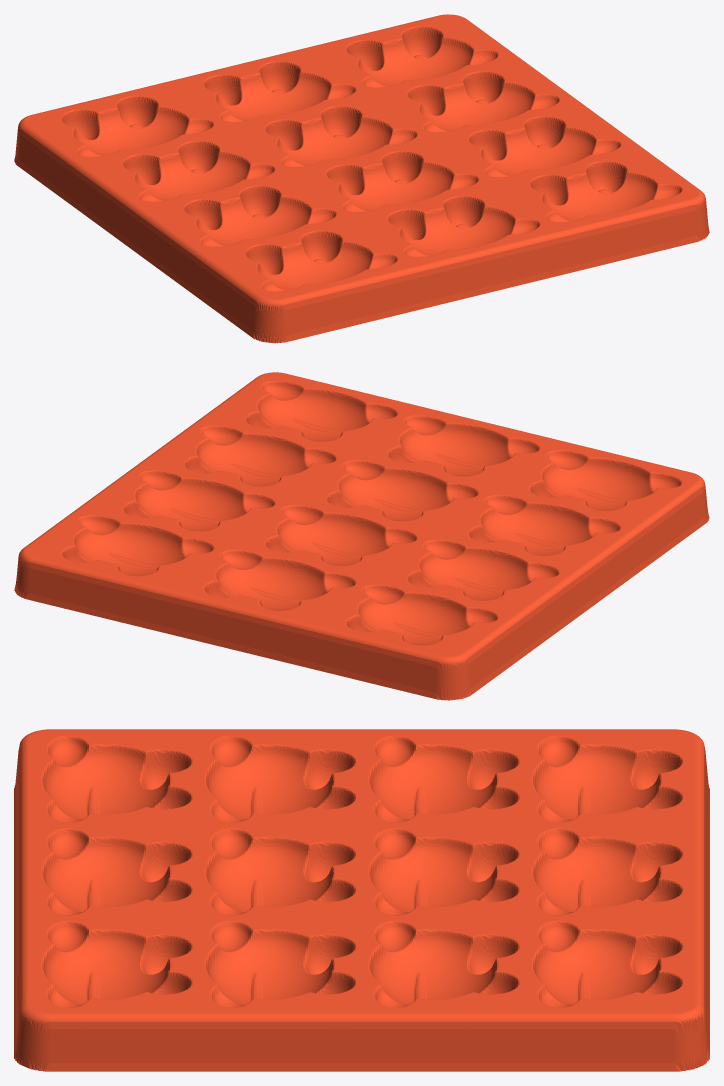
File: mold.glb
The picture shows the model from 3 angles, top to bottom: view 1: azimuth 30°, elevation 25°; view 2: azimuth 150°, elevation 25°; view 3: azimuth 270°, elevation 25°; orthographic projection. The views are drawn at different scales.
Visible parts, largest first — view 1: geometry_0; view 2: geometry_0; view 3: geometry_0.
Boxes of the visible parts, box(x1,y1,x2,y2) form: geometry_0: box(14, 14, 709, 343); geometry_0: box(14, 372, 709, 700); geometry_0: box(14, 729, 709, 1071).
Bounding box in the file's own units: 0.1753 × 0.0144 × 0.1745.
